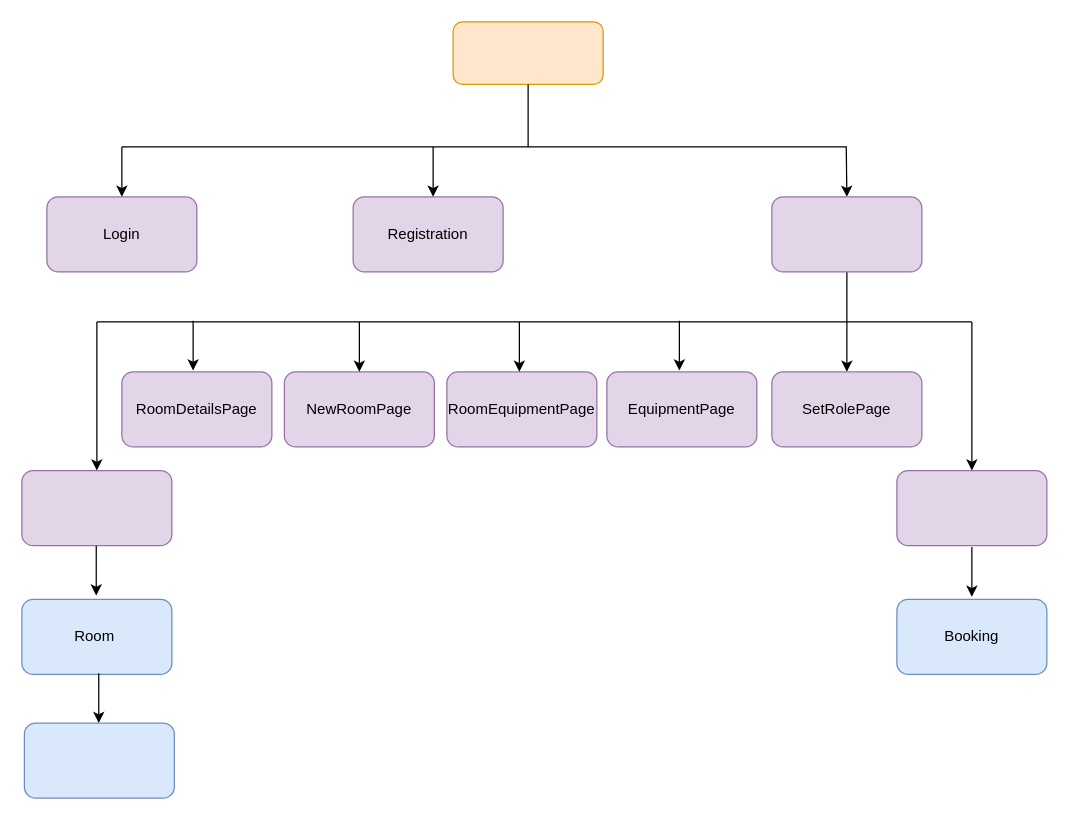
Some shapes in this 1069 by 820 pixel diagram are drawn without their labels. The centre of each missing label's shape, as x and y in pixels:
"App" belongs at [527,52].
"BookingsPage" belongs at [971,507].
"EquipmentShort" belongs at [98,760].
"ProtectedRoute" belongs at [846,234].
"RoomsPage" belongs at [96,507].
